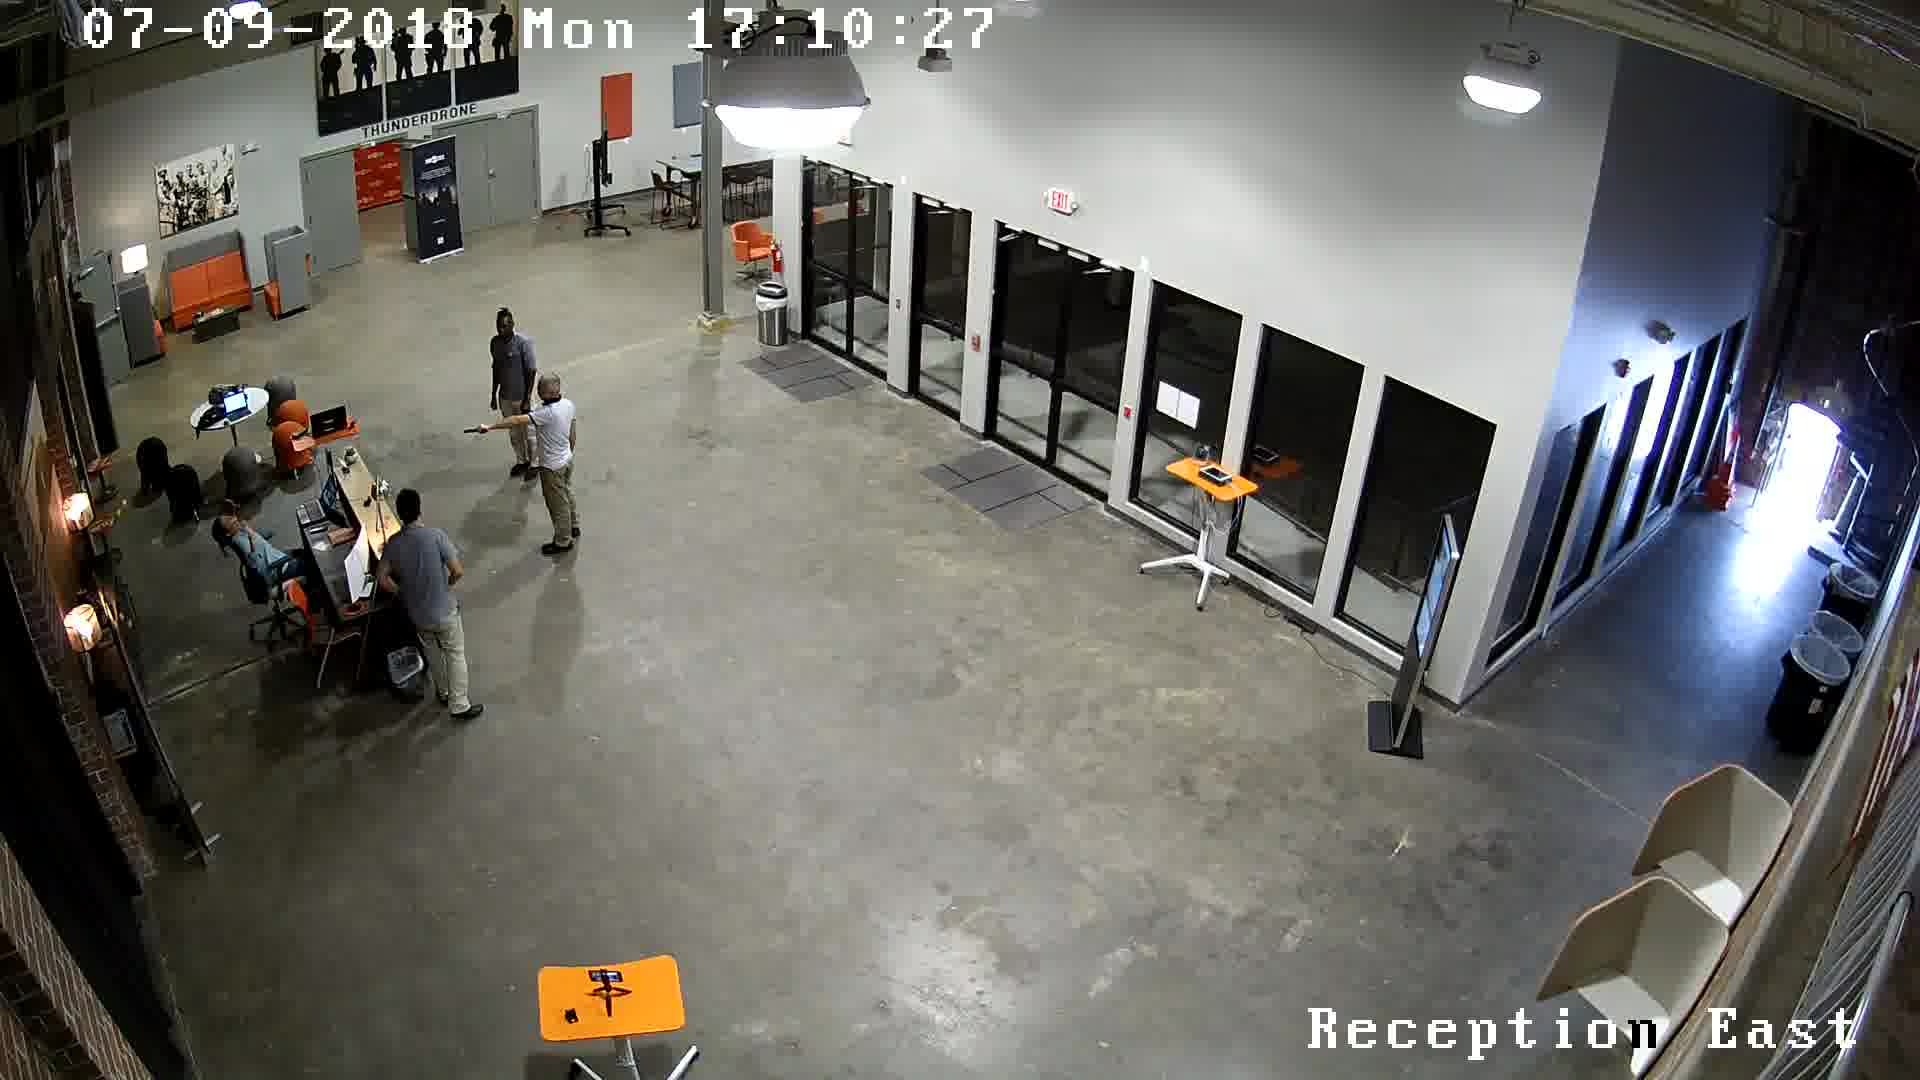pistol: (442, 411, 492, 448)
